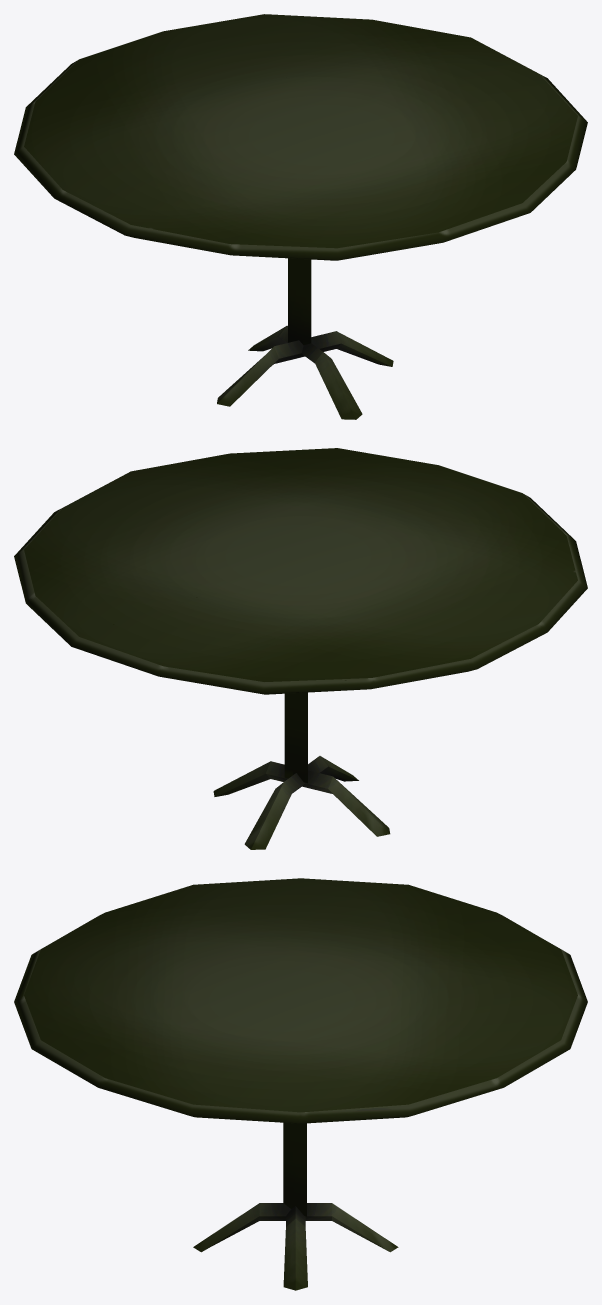
Rendered from mesa.fbx.
The picture shows the model from 3 angles, top to bottom: view 1: azimuth 30°, elevation 25°; view 2: azimuth 150°, elevation 25°; view 3: azimuth 270°, elevation 25°; orthographic projection.
Parts seen in each view (by area): view 1: Mesa; view 2: Mesa; view 3: Mesa.
Boxes of the visible parts, x1=… form: Mesa: x1=14, y1=14, x2=587, y2=419; Mesa: x1=14, y1=448, x2=587, y2=849; Mesa: x1=14, y1=878, x2=587, y2=1290.
Size of the model in its own units: 0.8426 by 0.4077 by 0.8426.
